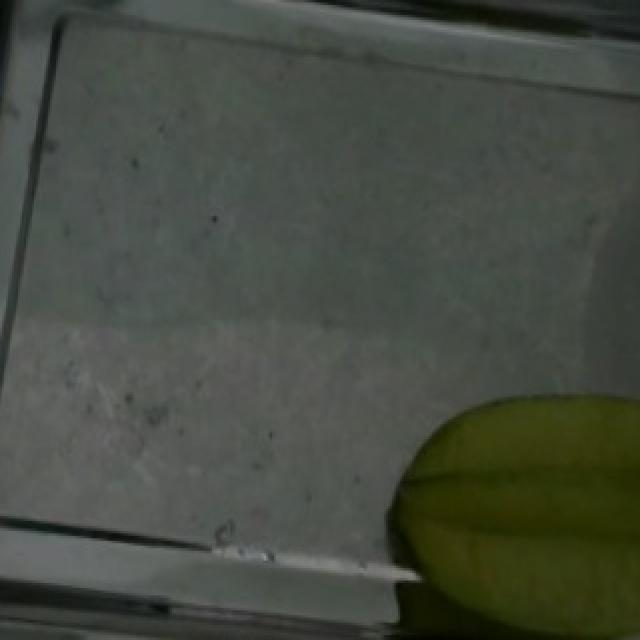fruit: (372, 367, 640, 640)
